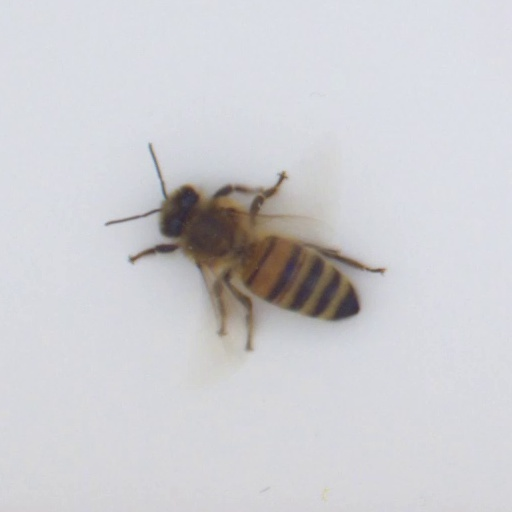Bee: (152, 183, 357, 326)
Thorax: (183, 202, 243, 263)
